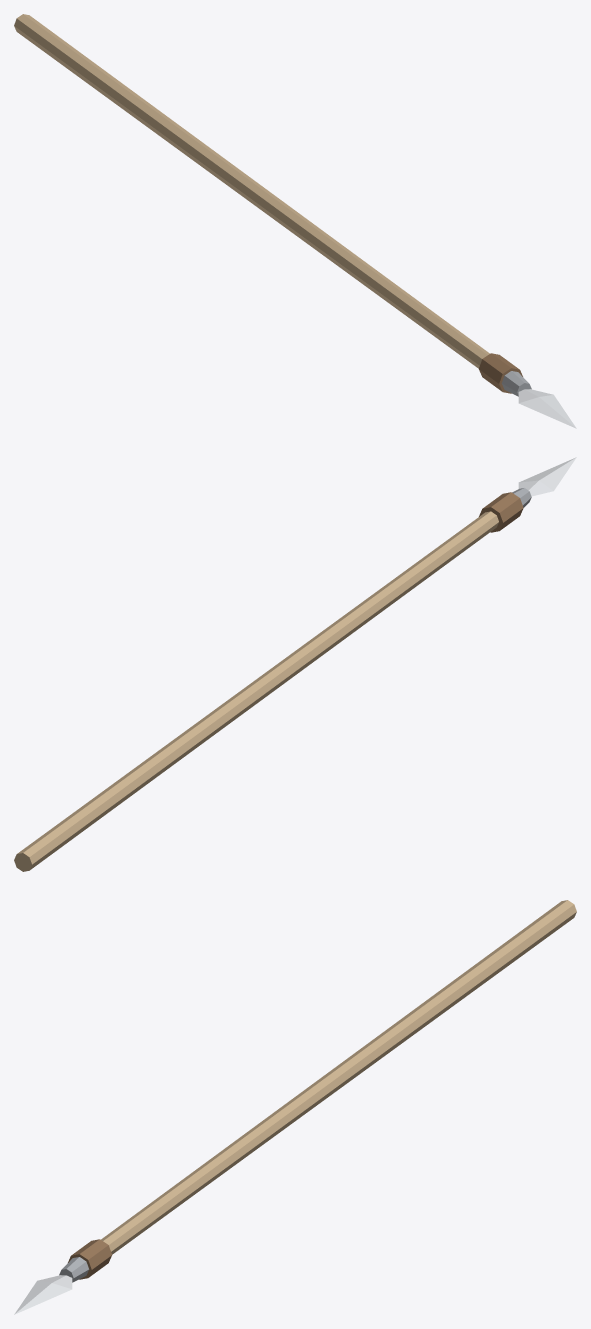
File: spear.glb
3 views of the same model, one above another, from view 1: azimuth 30°, elevation 25°; view 2: azimuth 150°, elevation 25°; view 3: azimuth 330°, elevation 25° (orthographic).
Visible parts, largest first — view 1: Arm.R.Lower.Tool.Spear, Arm.R.Lower.Tool.Spear.Head, Arm.R.Lower.Tool.Spear.Binding; view 2: Arm.R.Lower.Tool.Spear, Arm.R.Lower.Tool.Spear.Head, Arm.R.Lower.Tool.Spear.Binding; view 3: Arm.R.Lower.Tool.Spear, Arm.R.Lower.Tool.Spear.Head, Arm.R.Lower.Tool.Spear.Binding.
Boxes of the visible parts, x1,y1,x2,y2 form: Arm.R.Lower.Tool.Spear: (14,14,489,368); Arm.R.Lower.Tool.Spear.Head: (518,389,576,428); Arm.R.Lower.Tool.Spear.Binding: (479,353,522,393); Arm.R.Lower.Tool.Spear: (14,511,498,871); Arm.R.Lower.Tool.Spear.Head: (518,457,576,496); Arm.R.Lower.Tool.Spear.Binding: (479,492,523,532); Arm.R.Lower.Tool.Spear: (101,900,576,1254); Arm.R.Lower.Tool.Spear.Head: (14,1275,72,1314); Arm.R.Lower.Tool.Spear.Binding: (68,1239,111,1279).
Bounding box in the file's own units: 0.07 × 0.0486 × 1.9.
